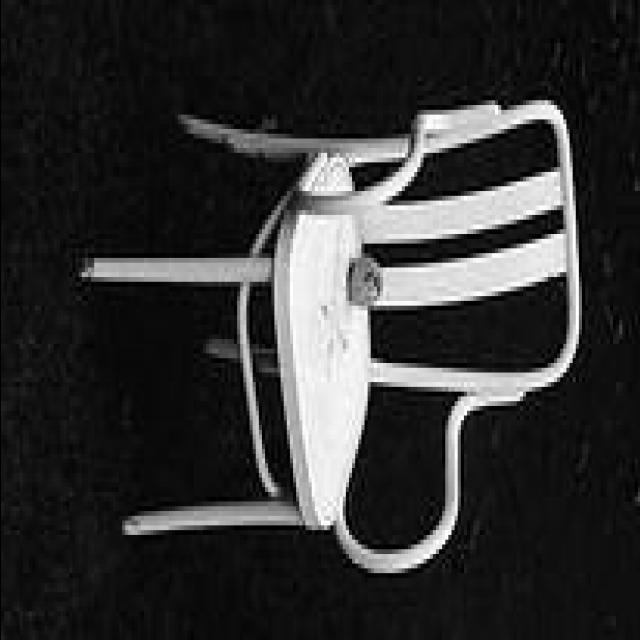chair: (74, 89, 584, 575)
